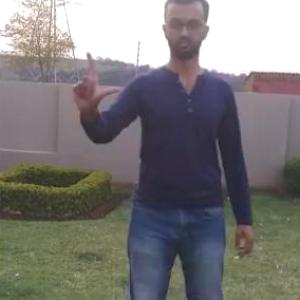land_hand: (68, 48, 122, 113)
